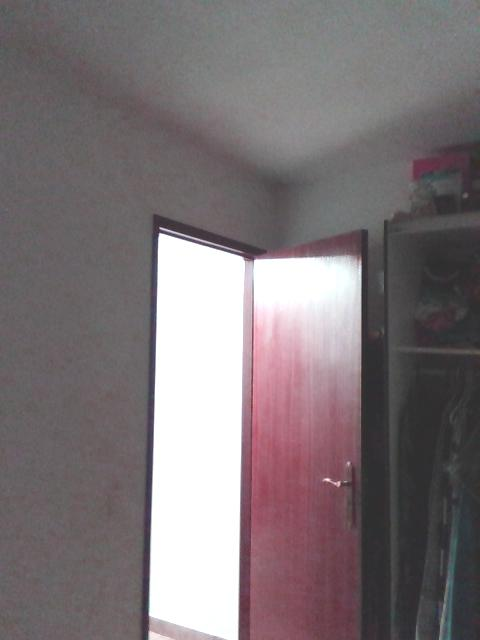open_door: (141, 211, 267, 638)
